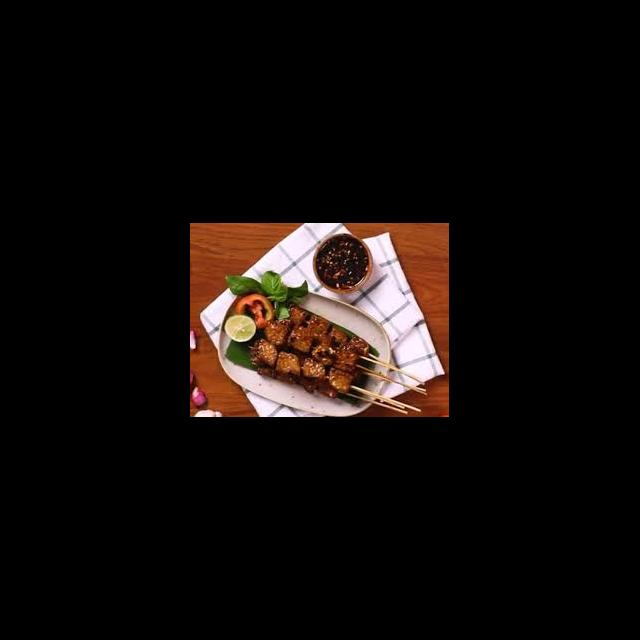food_waste: (251, 306, 364, 392)
